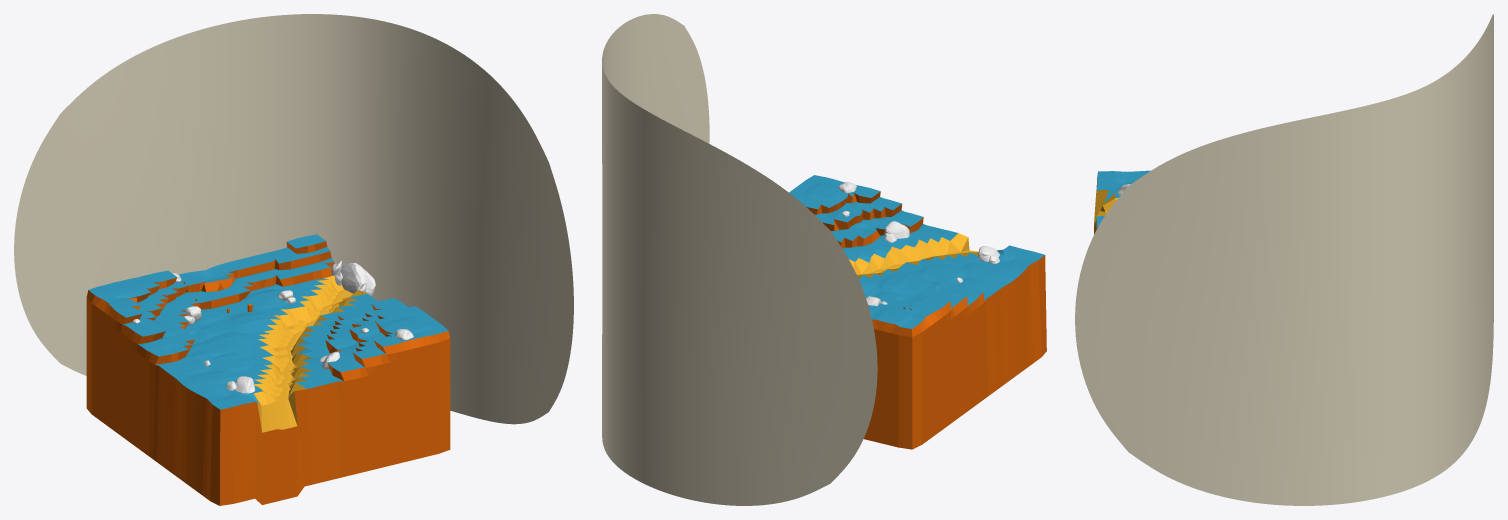
File: unity_forest.fbx
The picture shows the model from 3 angles, left to right: view 1: azimuth 30°, elevation 25°; view 2: azimuth 150°, elevation 25°; view 3: azimuth 270°, elevation 25°; orthographic projection. The views are drawn at different scales.
Parts seen in each view (by area): view 1: Plane, Ground, Icosphere.013; view 2: Plane, Ground; view 3: Plane, Ground.
Part boxes in pixels (box(x1,y1,x2,y2)): Plane: box(14, 14, 573, 424); Ground: box(86, 234, 450, 505); Icosphere.013: box(340, 262, 375, 296); Plane: box(602, 14, 877, 505); Ground: box(789, 175, 1046, 449); Plane: box(1075, 14, 1493, 505); Ground: box(1094, 170, 1150, 234).
Size of the model in its own units: 4304 by 4217 by 4042.
